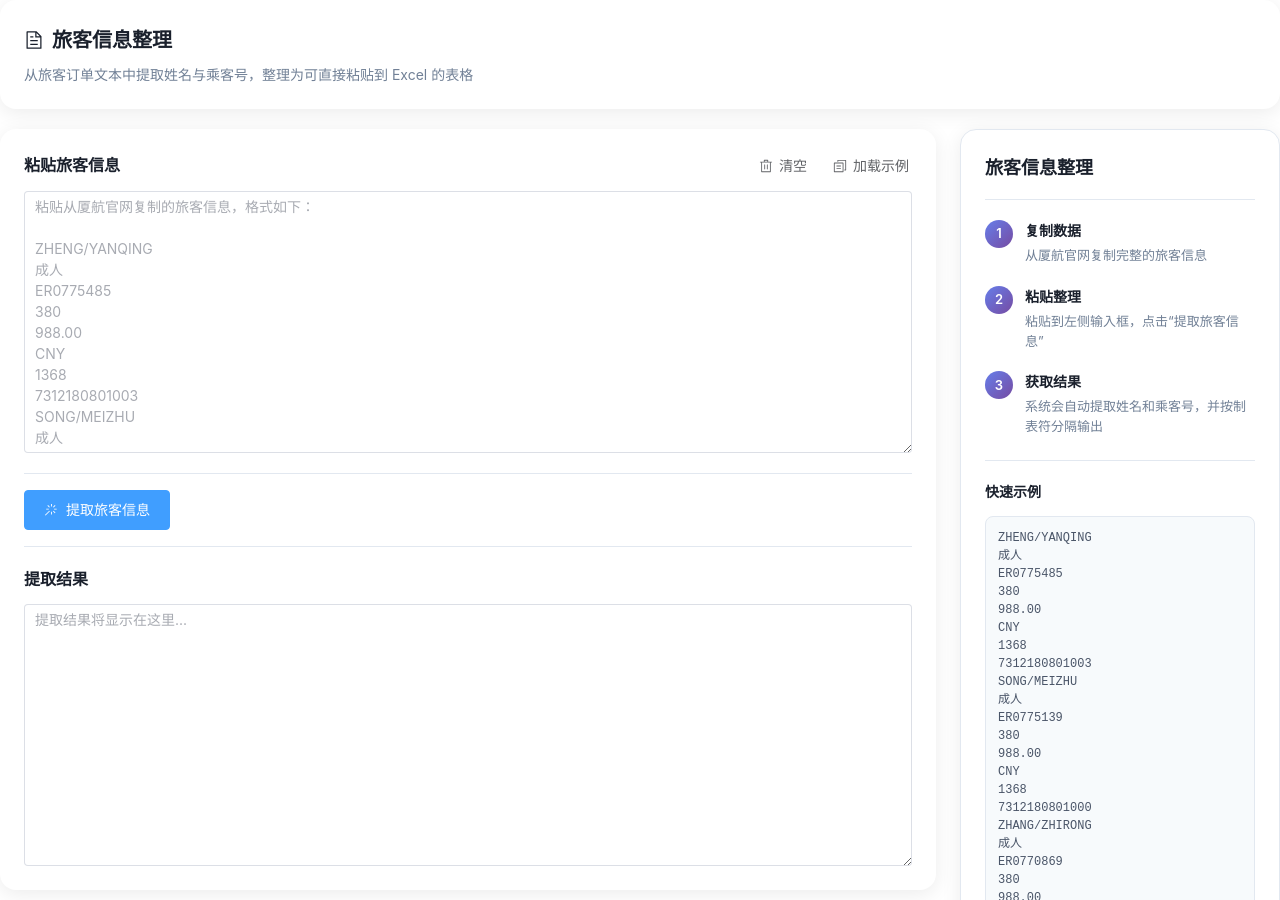
it: text formatter view › renders only the passenger workflow and extracts passenger rows
Replace the text in the 1st text box with "ZHENG/YANQING 成人 ER0775485 380 988.00 CNY 1368 7312180801003 SONG/MEIZHU 成人 ER0775139 380 988.00 CNY 1368 7312180801000" at (468, 322), box [24,191,912,453]
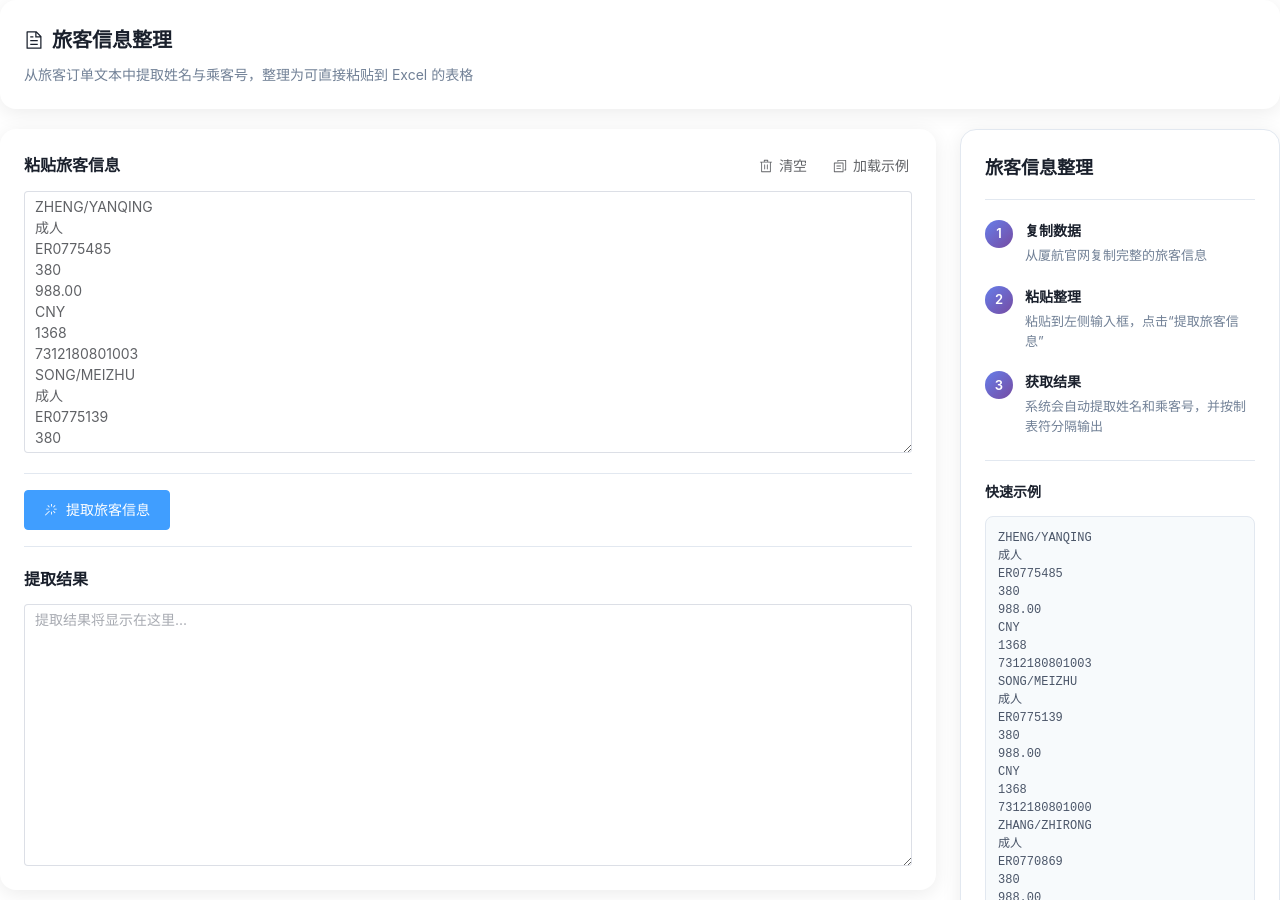
Click the button "提取旅客信息".
click(97, 510)  # box [24,490,170,530]
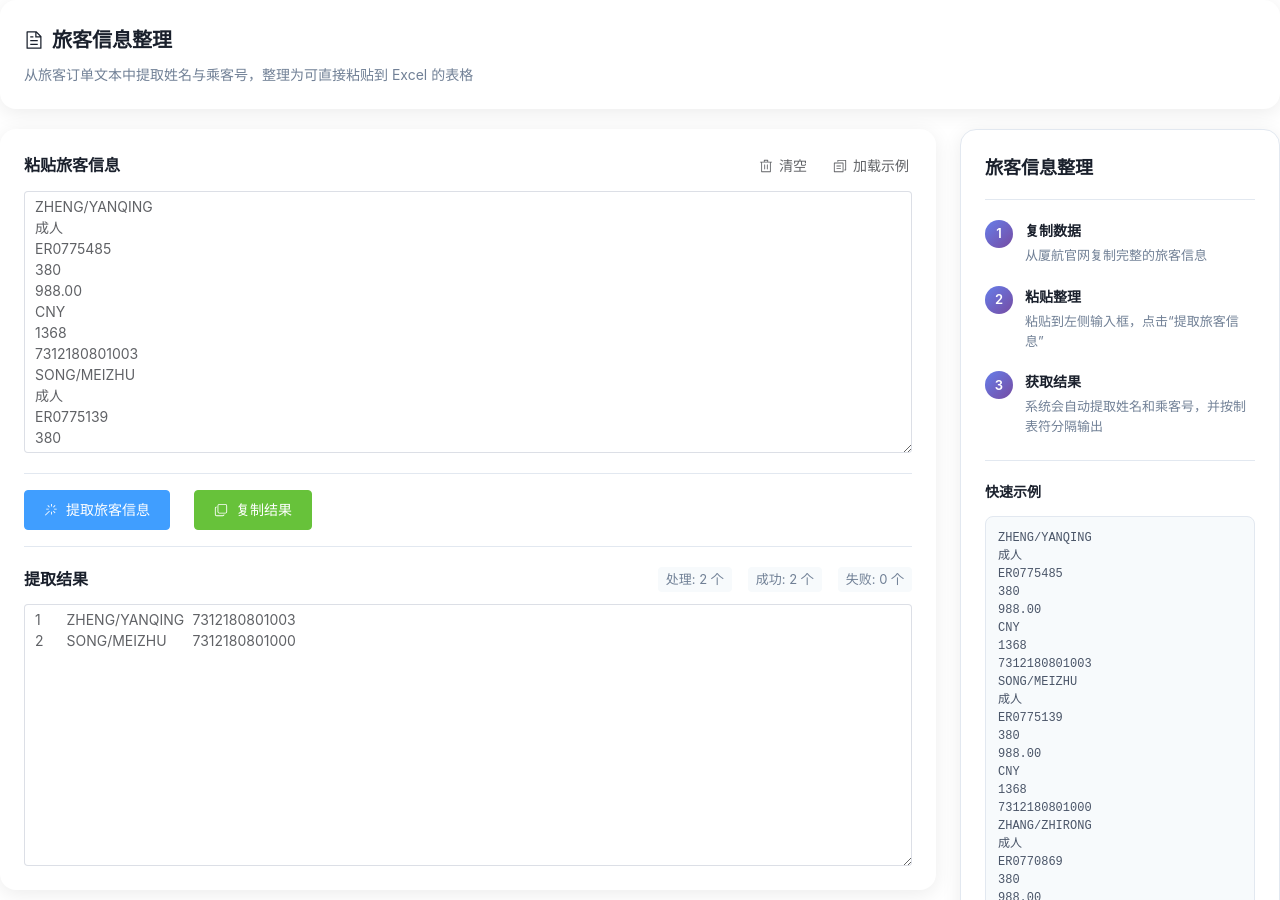
Result: the text box below "提取结果" holds "1 ZHENG/YANQING 7312180801003 2 SONG/MEIZHU 7312180801000" at [24,604,912,866]
